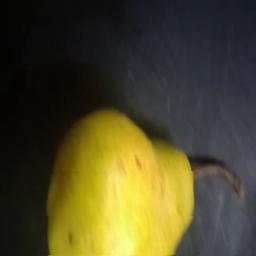Pear Fresh: (31, 103, 256, 255)
